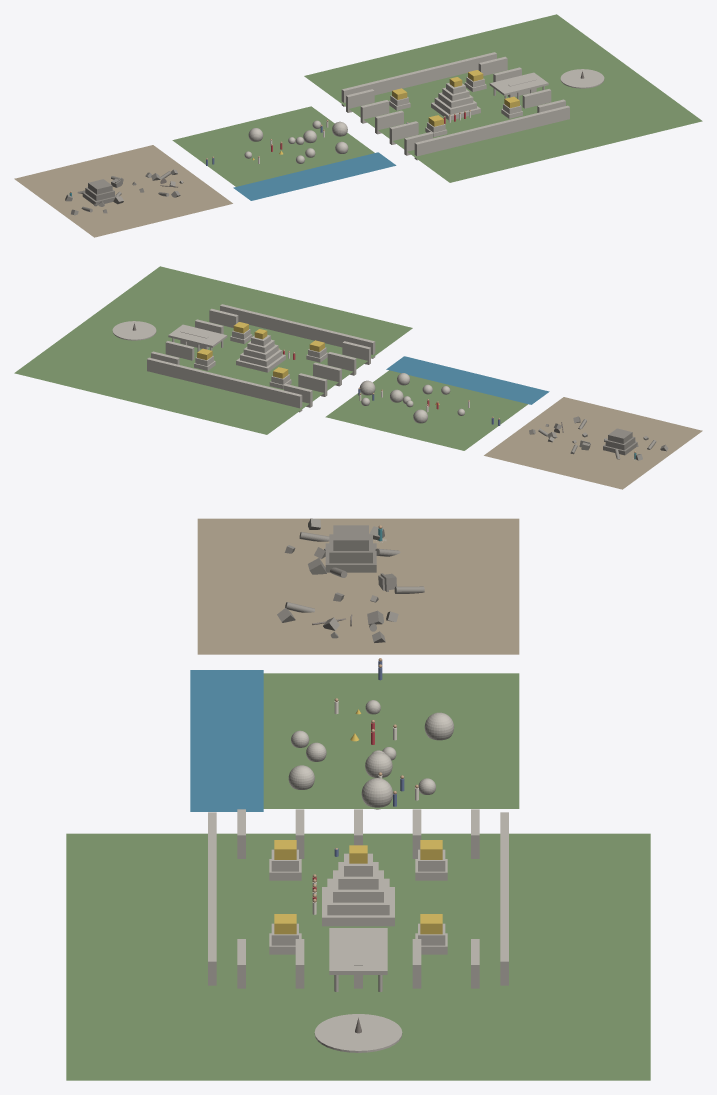
File: vijayanagara.fbx
3 views of the same model, one above another, from view 1: azimuth 30°, elevation 25°; view 2: azimuth 150°, elevation 25°; view 3: azimuth 270°, elevation 25° (orthographic). The views are drawn at different scales.
Parts seen in each view (by area): view 1: Merged_Grass, Merged_Stone, Ground_Ruins, River_Tungabhadra, Merged_StoneDark, Merged_Gold; view 2: Merged_Grass, Merged_Stone, Ground_Ruins, River_Tungabhadra, Merged_StoneDark, Merged_Gold; view 3: Merged_Grass, Ground_Ruins, Merged_Stone, River_Tungabhadra, Merged_StoneDark, Merged_Gold.
Boxes of the visible parts, x1=… form: Merged_Grass: x1=172, y1=14, x2=702, y2=186; Merged_Stone: x1=72, y1=52, x2=604, y2=199; Ground_Ruins: x1=14, y1=145, x2=232, y2=237; River_Tungabhadra: x1=233, y1=152, x2=396, y2=200; Merged_StoneDark: x1=65, y1=169, x2=183, y2=215; Merged_Gold: x1=252, y1=70, x2=519, y2=160; Merged_Grass: x1=14, y1=266, x2=527, y2=450; Merged_Stone: x1=112, y1=304, x2=634, y2=460; Ground_Ruins: x1=484, y1=397, x2=702, y2=489; River_Tungabhadra: x1=386, y1=356, x2=549, y2=404; Merged_StoneDark: x1=529, y1=416, x2=668, y2=460; Merged_Gold: x1=197, y1=322, x2=439, y2=404; Merged_Grass: x1=66, y1=673, x2=650, y2=1080; Ground_Ruins: x1=197, y1=518, x2=519, y2=654; Merged_Stone: x1=208, y1=538, x2=508, y2=1052; River_Tungabhadra: x1=190, y1=670, x2=263, y2=811; Merged_StoneDark: x1=277, y1=518, x2=424, y2=642; Merged_Gold: x1=274, y1=709, x2=442, y2=934.
Bounding box in the file's own units: 18200 × 1050 × 8000.
